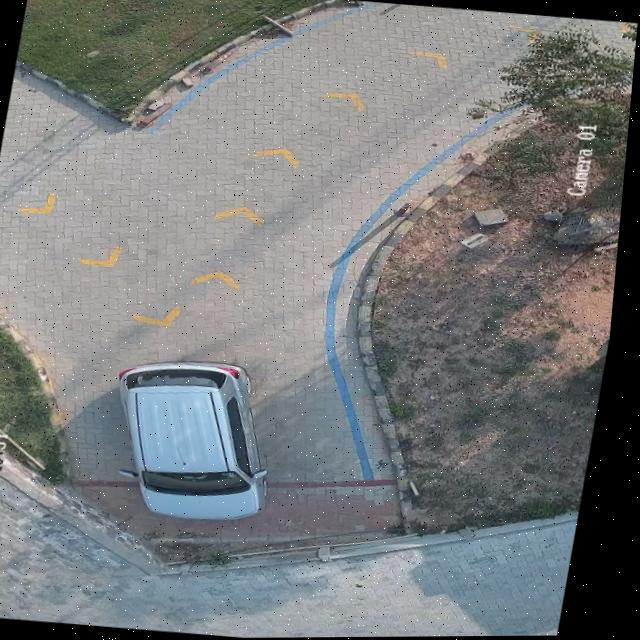car: (125, 359, 278, 520)
